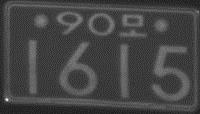0: (87, 11, 115, 37)
1: (107, 43, 142, 98), (17, 39, 49, 94)
5: (151, 44, 191, 102)
6: (57, 40, 99, 97)
9: (56, 10, 84, 35)
모: (118, 13, 146, 37)
